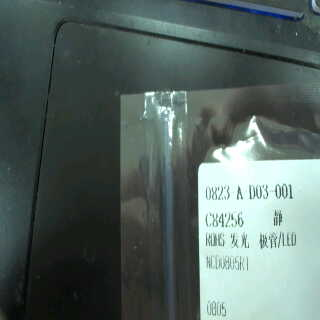LED: (228, 230, 308, 250)
